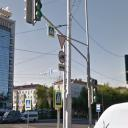preferencia: (57, 34, 67, 50)
